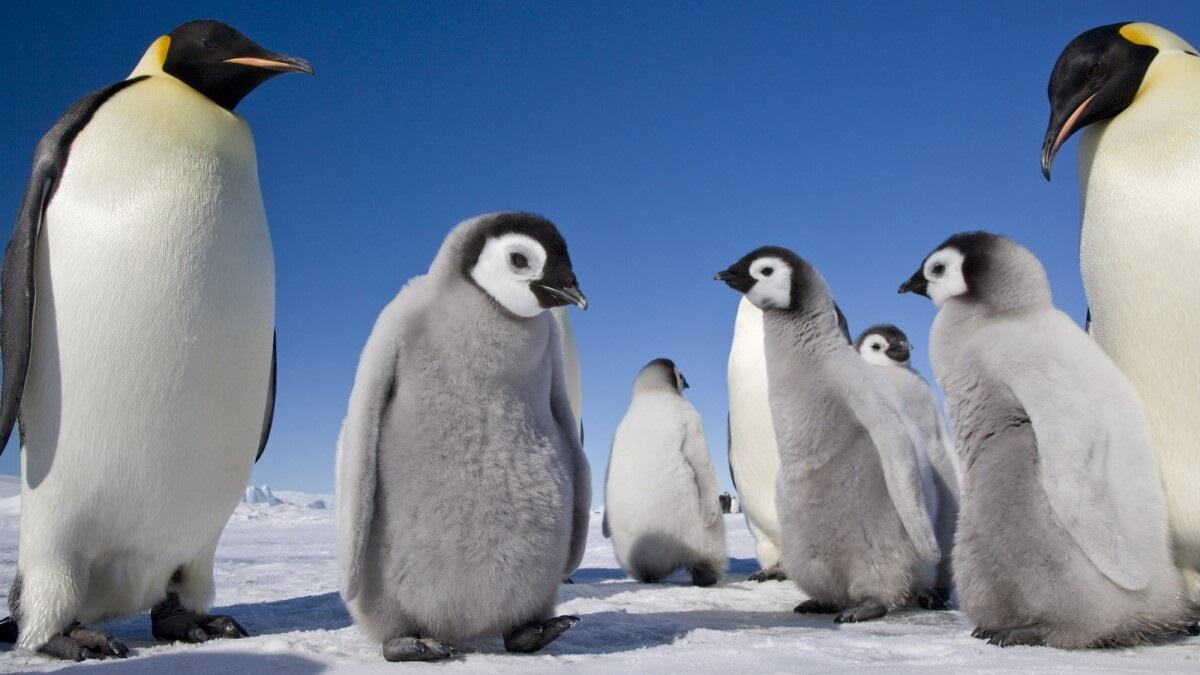emporer: (0, 3, 356, 675), (986, 11, 1200, 665)
